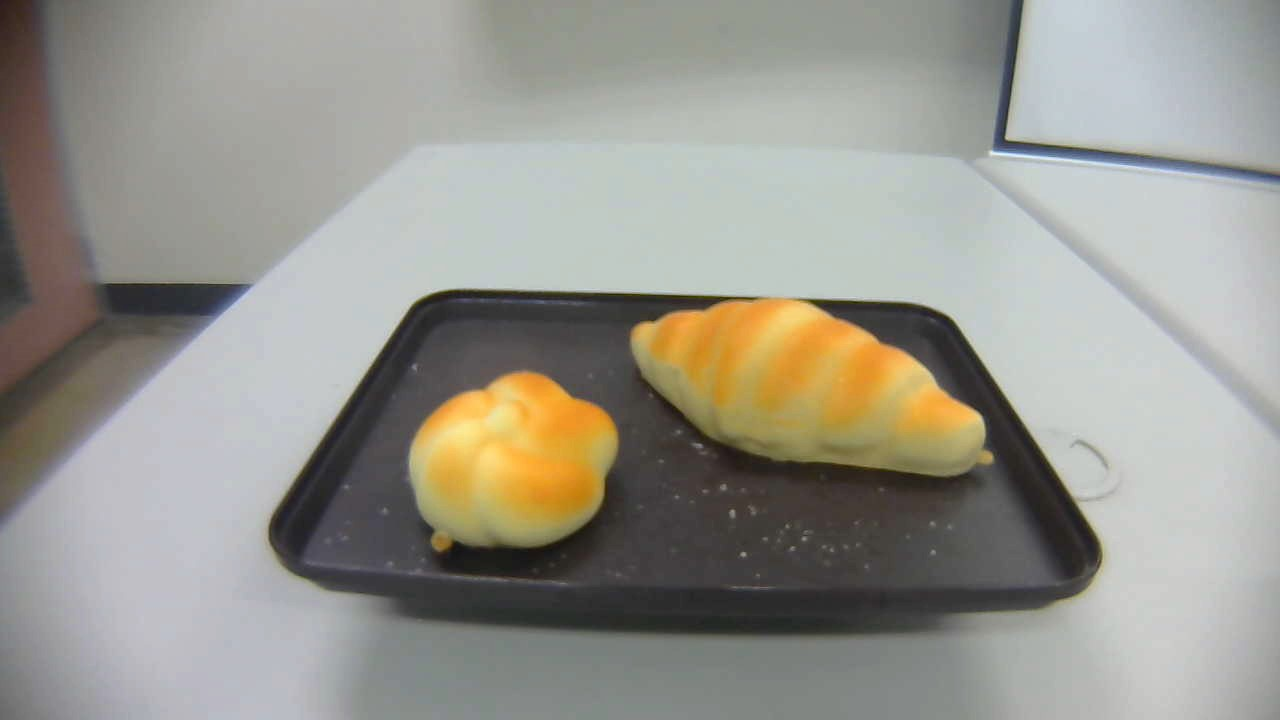croissant: (631, 298, 996, 479)
twist bread: (406, 369, 621, 557)
